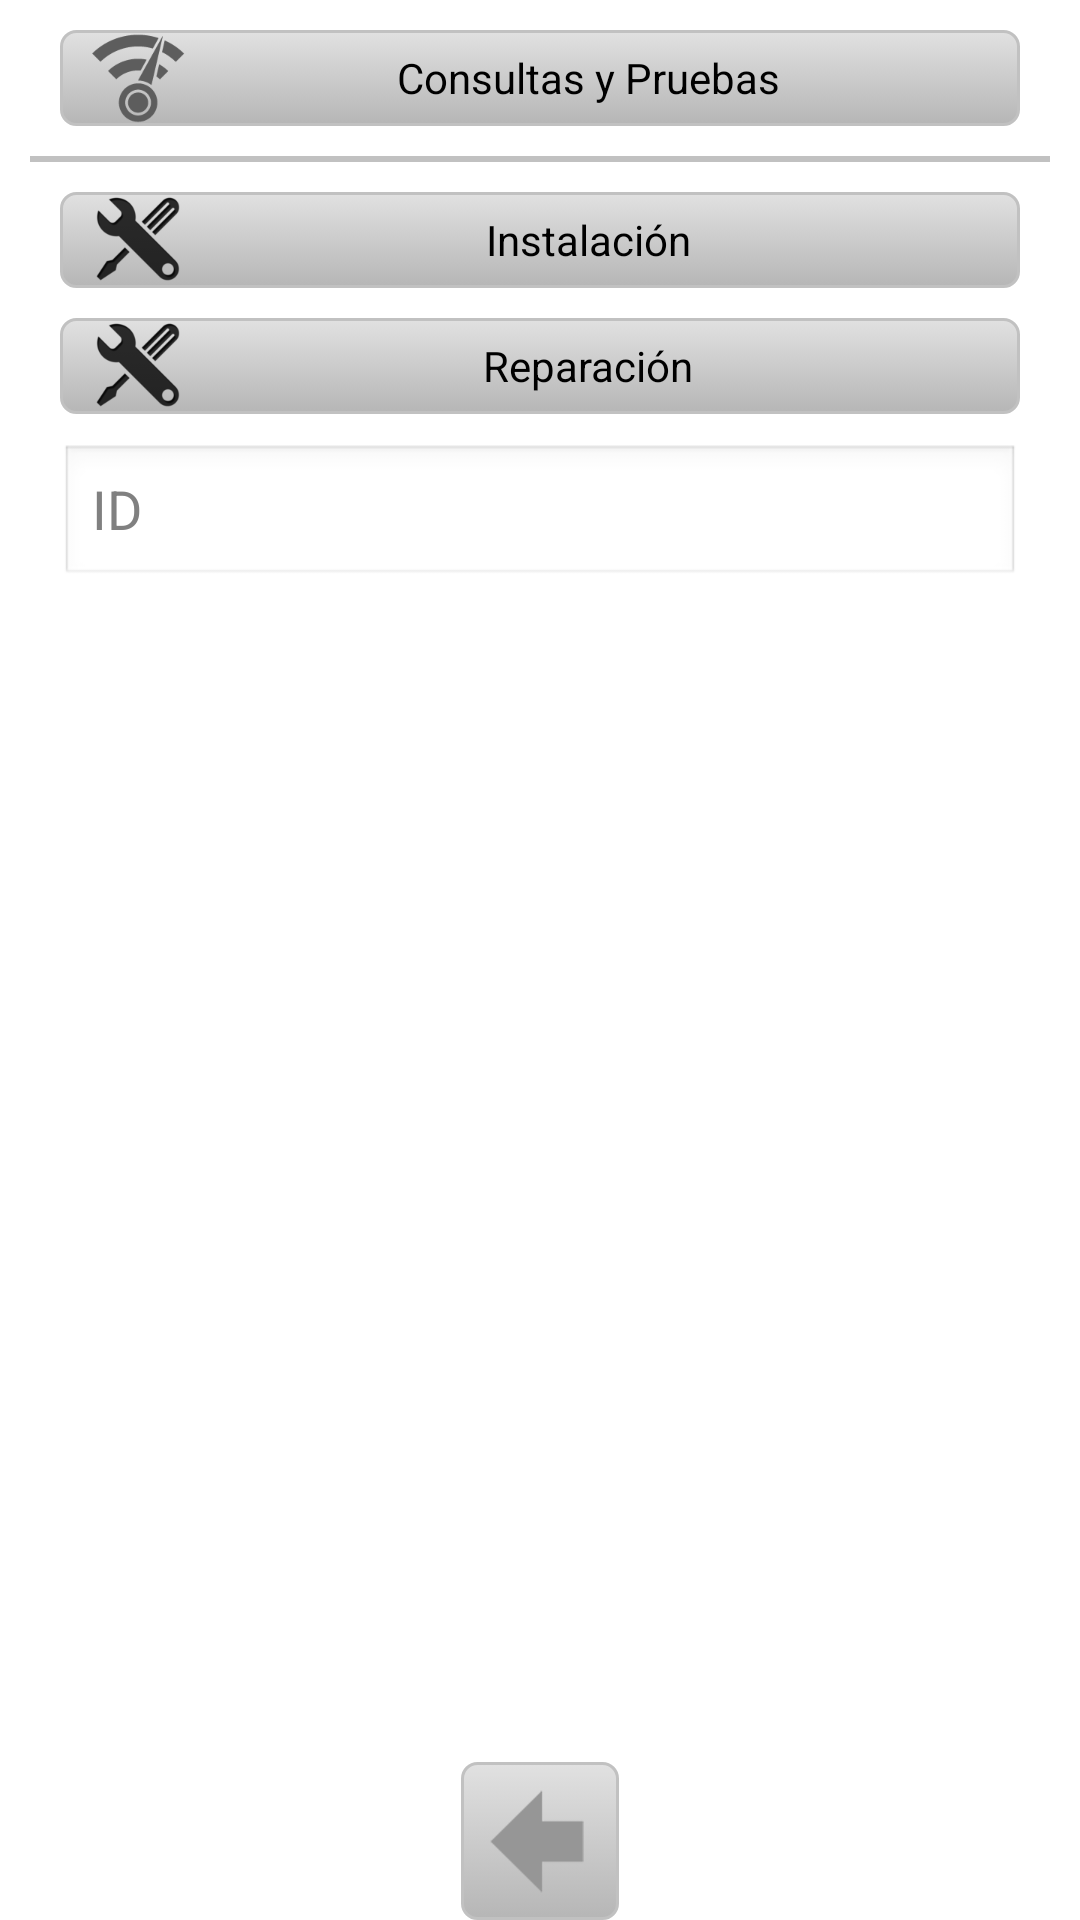

Point at icon controls on the screen. Image size 1080px×1920px, points as (x=x, y=y).
left: (x=540, y=1841)
